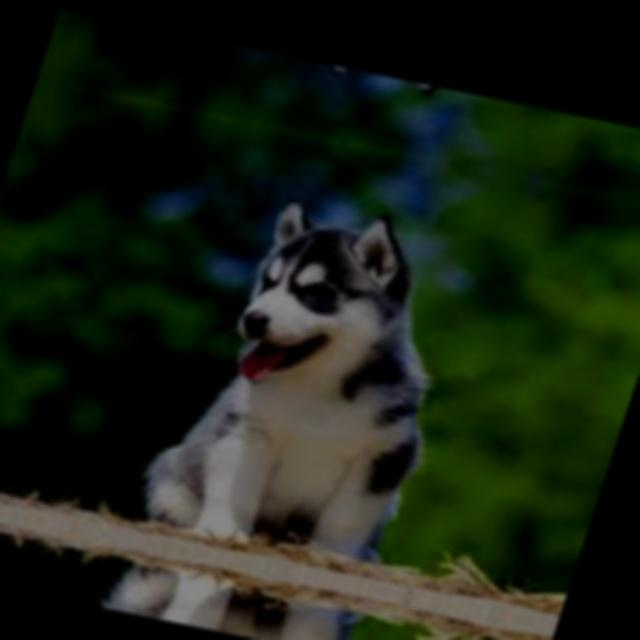dog: (96, 180, 508, 593), (74, 533, 393, 640), (252, 50, 551, 118)
